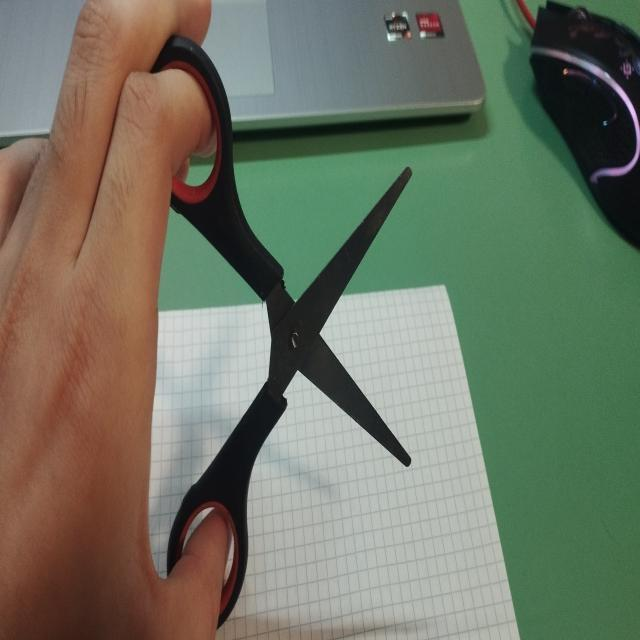tesoura: (148, 23, 416, 635)
